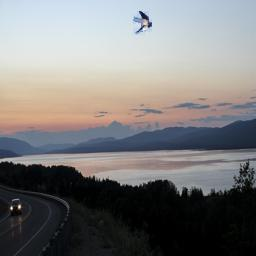Swallow: (133, 11, 152, 35)
